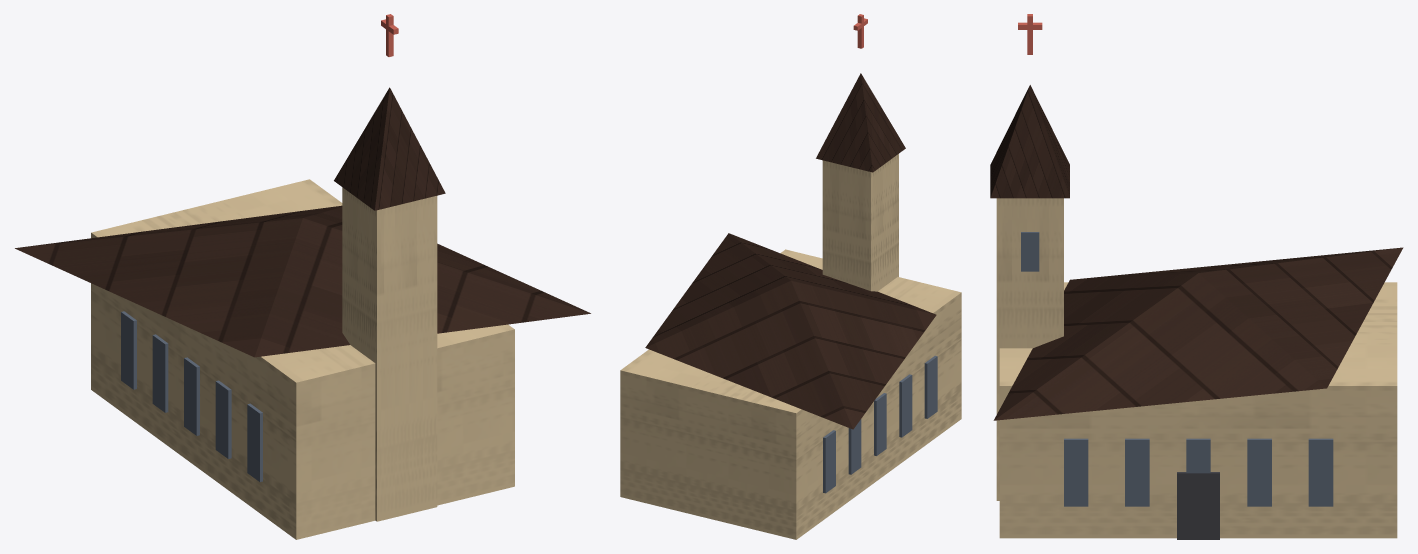
File: church.glb
3 views of the same model, side by side, from view 1: azimuth 30°, elevation 25°; view 2: azimuth 150°, elevation 25°; view 3: azimuth 270°, elevation 25° (orthographic). The views are drawn at different scales.
Parts seen in each view (by area): view 1: nave, roof.002, tower, spire, win.007, win.011, win.005, win.009, win.013; view 2: nave, roof.002, tower, spire, win.007, win.005, win.013, win.009, win.011; view 3: nave, roof.002, tower, spire, door.002, win.012, win.006, win.010, win.004, win.008, twin.
Part boxes in pixels (bbox=[...]): nave: bbox=[91, 179, 514, 539]; roof.002: bbox=[15, 205, 590, 357]; tower: bbox=[342, 187, 437, 521]; spire: bbox=[334, 87, 445, 210]; win.007: bbox=[215, 380, 231, 458]; win.011: bbox=[152, 334, 168, 412]; win.005: bbox=[247, 403, 262, 481]; win.009: bbox=[184, 357, 199, 435]; win.013: bbox=[121, 311, 136, 389]; nave: bbox=[620, 249, 961, 539]; roof.002: bbox=[645, 233, 936, 429]; tower: bbox=[822, 154, 898, 291]; spire: bbox=[816, 73, 905, 172]; win.007: bbox=[899, 374, 912, 437]; win.005: bbox=[924, 355, 937, 418]; win.013: bbox=[823, 430, 835, 493]; win.009: bbox=[874, 393, 886, 455]; win.011: bbox=[848, 419, 861, 474]; nave: bbox=[999, 282, 1397, 538]; roof.002: bbox=[993, 247, 1403, 420]; tower: bbox=[996, 198, 1063, 500]; spire: bbox=[990, 85, 1069, 198]; door.002: bbox=[1177, 472, 1219, 539]; win.012: bbox=[1308, 438, 1333, 506]; win.006: bbox=[1125, 438, 1149, 506]; win.010: bbox=[1247, 438, 1271, 506]; win.004: bbox=[1064, 438, 1088, 506]; win.008: bbox=[1186, 438, 1210, 473]; twin: bbox=[1021, 232, 1039, 271].
Bounding box in the file's own units: 13.4 × 17 × 13.5.
7 materials, 4 textured.
